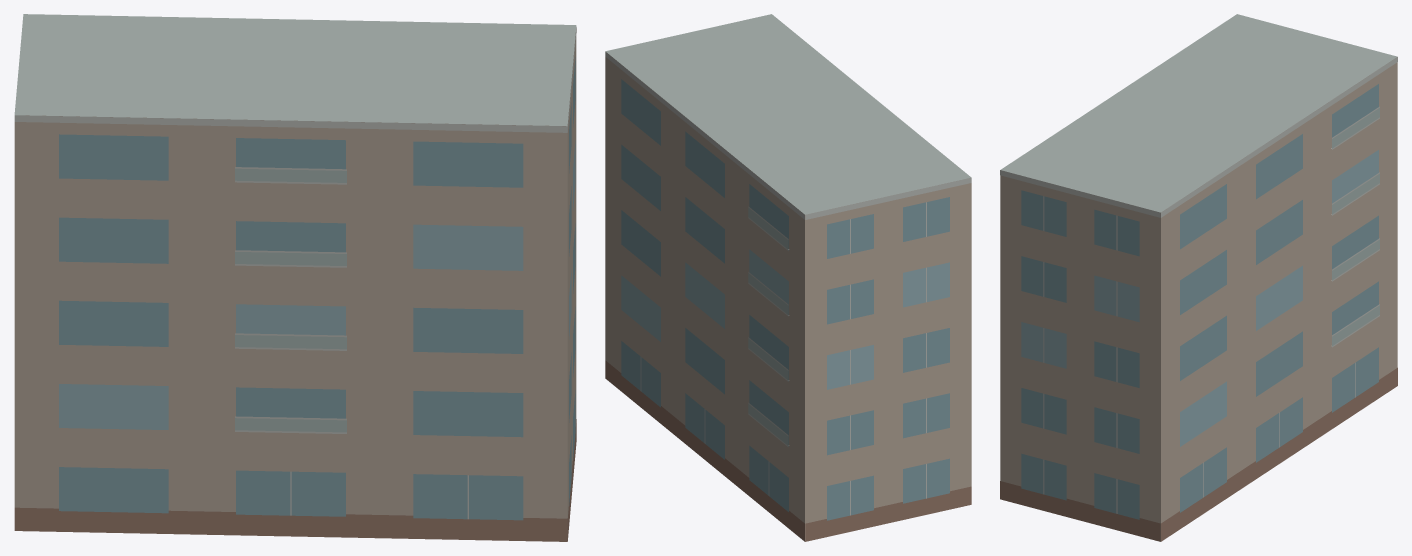
The model's file is survey-upis-32511154.glb.
The picture shows the model from 3 angles, left to right: view 1: azimuth 30°, elevation 25°; view 2: azimuth 150°, elevation 25°; view 3: azimuth 270°, elevation 25°; orthographic projection. The views are drawn at different scales.
Parts seen in each view (by area): view 1: survey-upis-32511154.tmp; view 2: survey-upis-32511154.tmp; view 3: survey-upis-32511154.tmp.
Part boxes in pixels (left/top/right/bottom): survey-upis-32511154.tmp: left=14, top=14, right=576, bottom=541; survey-upis-32511154.tmp: left=605, top=14, right=971, bottom=541; survey-upis-32511154.tmp: left=1000, top=14, right=1397, bottom=541.
Bounding box in the file's own units: 19.41 × 15 × 16.42.
